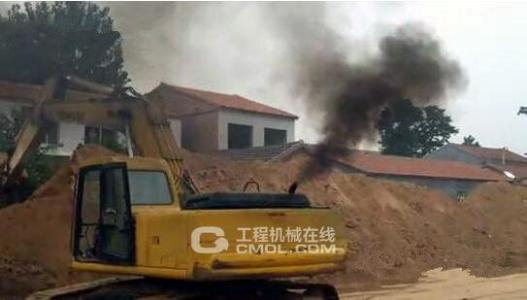smoke: (261, 16, 469, 179)
